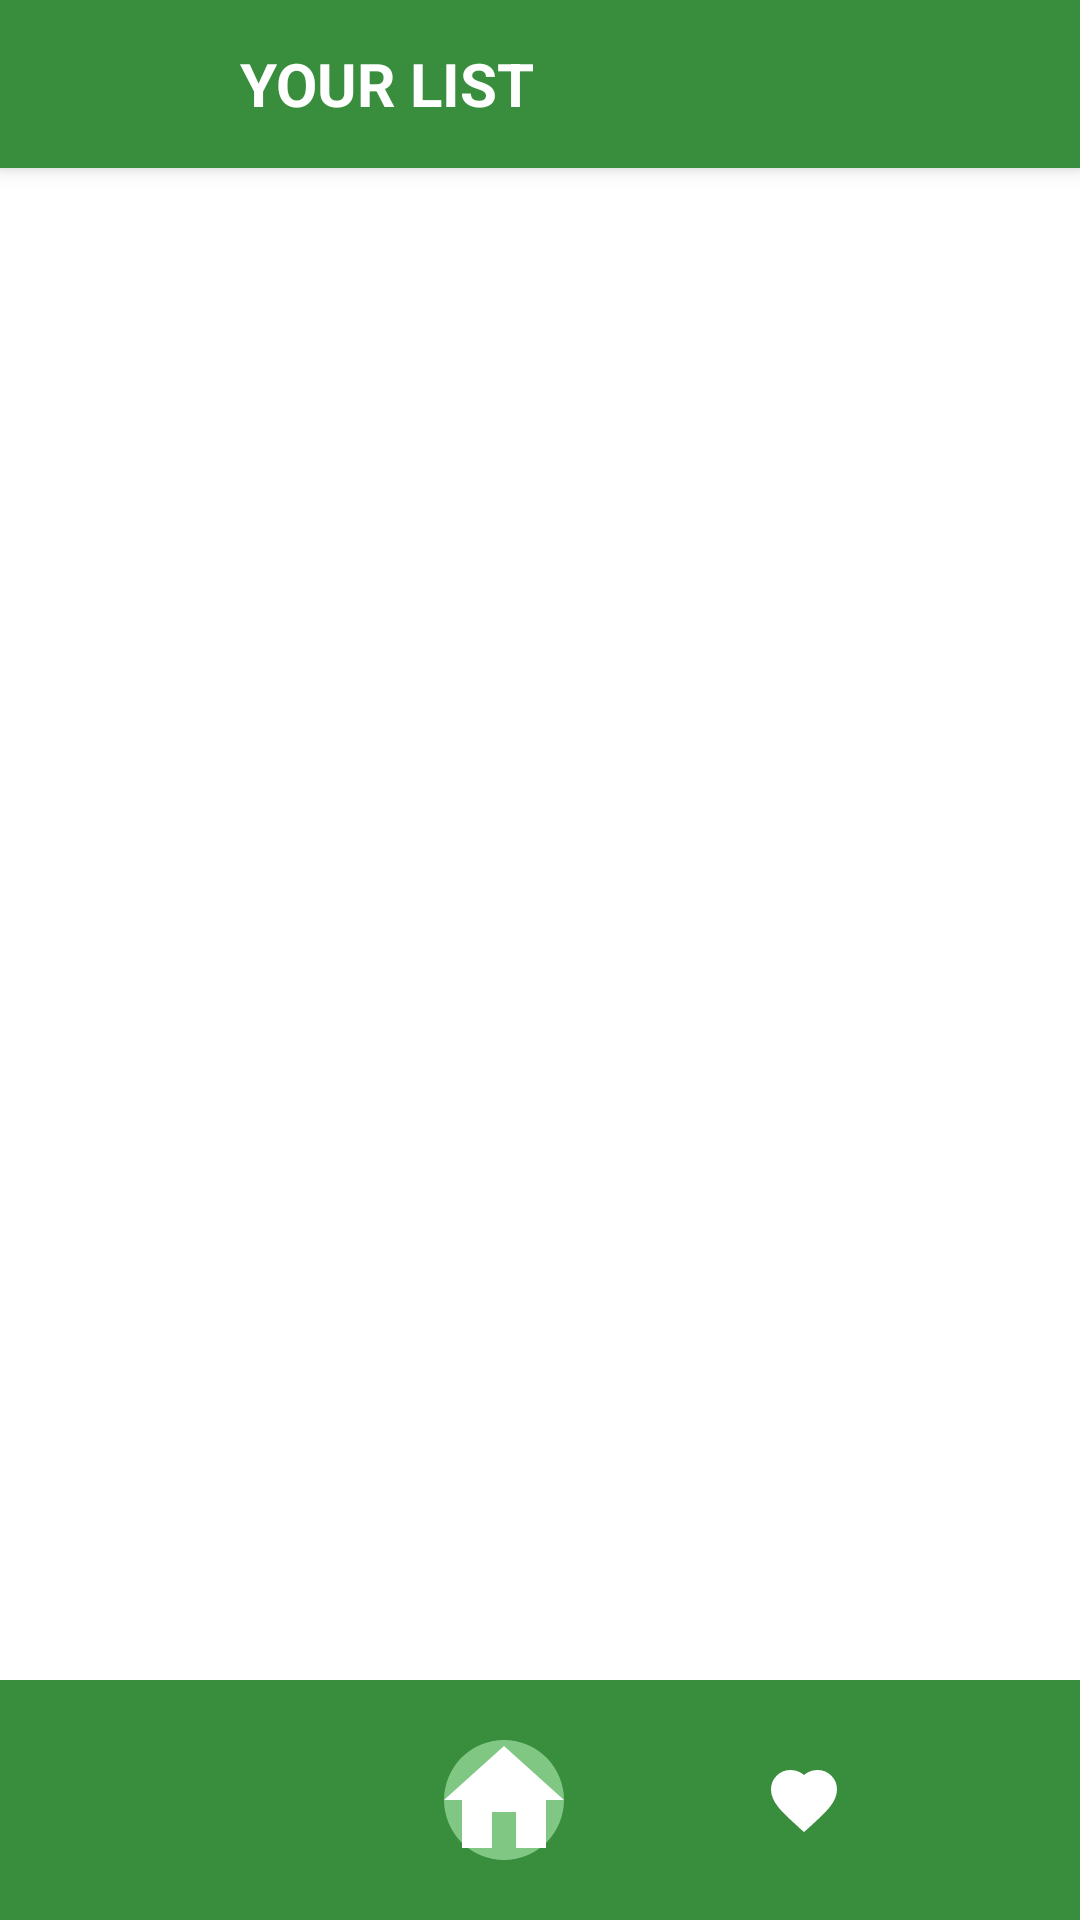

Screen size 1080w x 1920h. Icon name, then its box in pixels as (x1, y1, x2, y2):
fav: (771, 1770, 837, 1832)
home: (444, 1740, 564, 1860)
